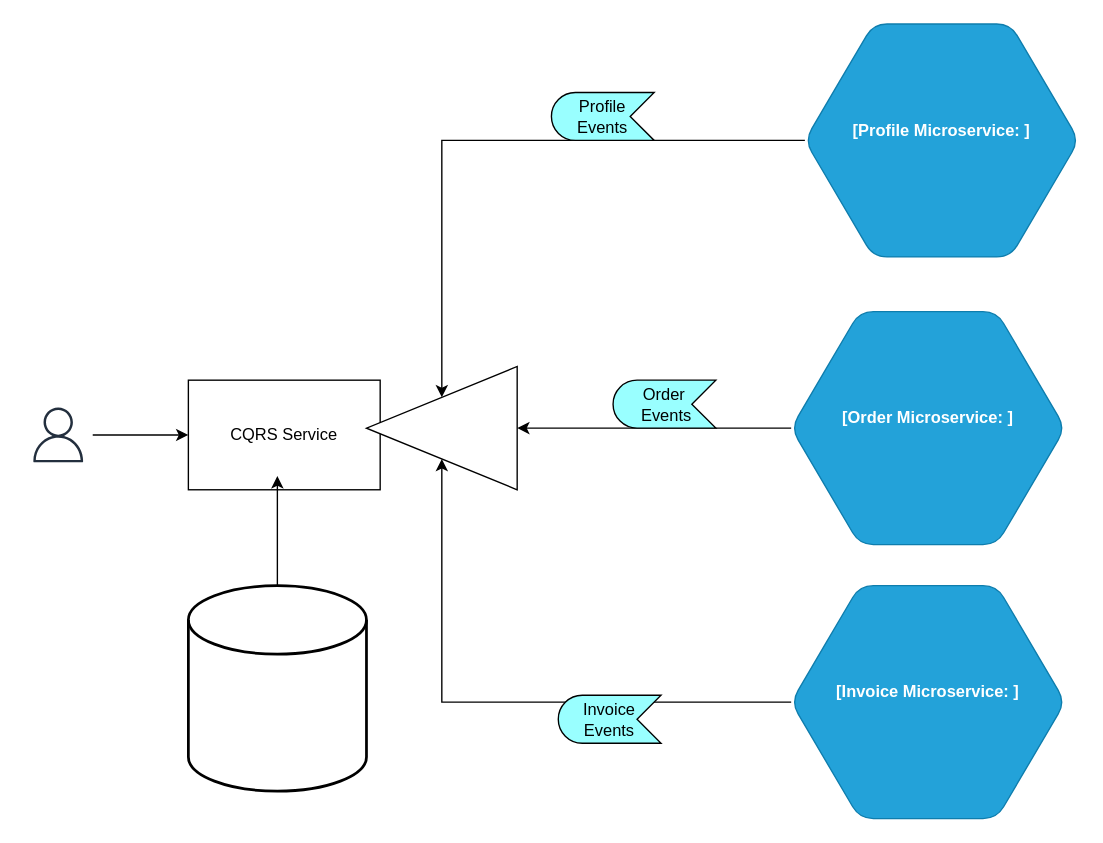
The diagram is 1103 pixels wide and 843 high, and some of its shapes have lost their labels. Each missing label, with the box of its shape:
Database: (186, 584, 367, 792)
Event Handlers: (365, 365, 517, 490)
User: (23, 399, 92, 469)
